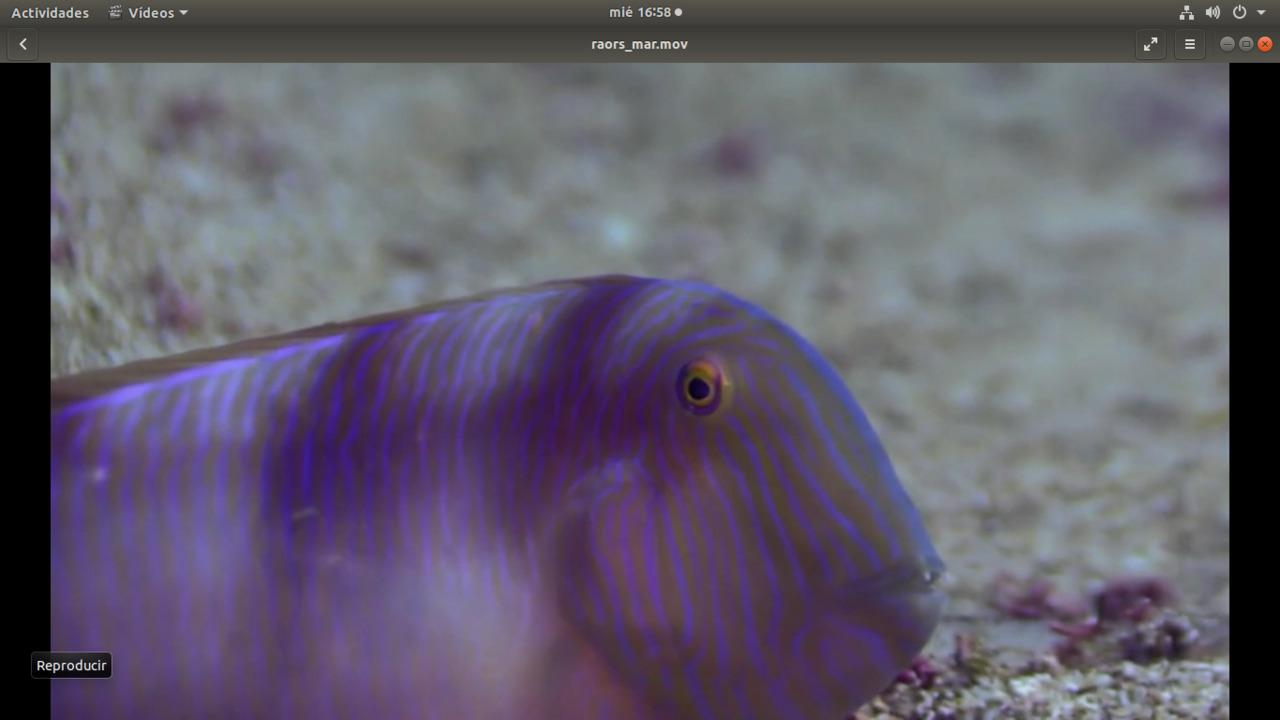raor: (116, 272, 955, 714)
